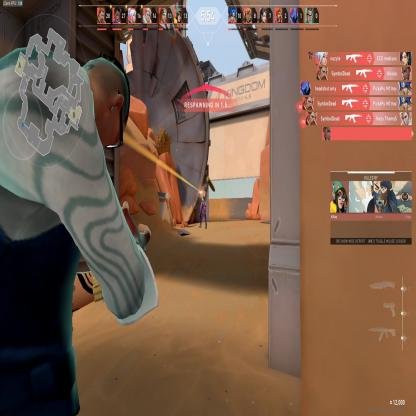enemy: (198, 182, 207, 229)
